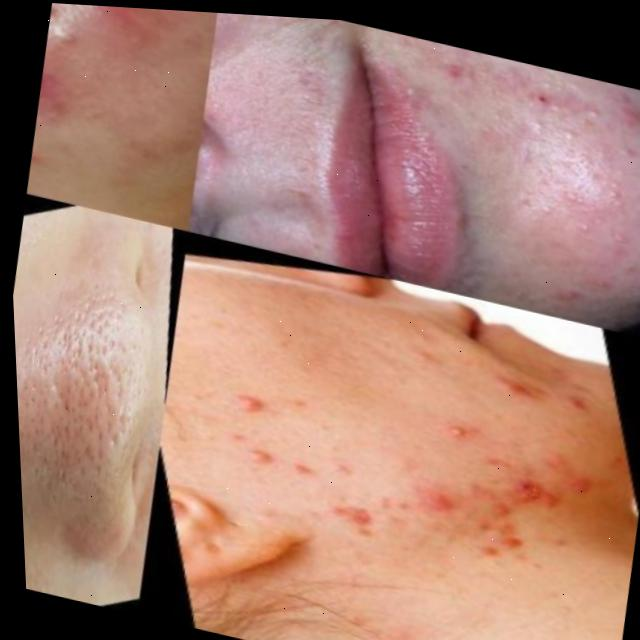Acne: (205, 348, 589, 607), (456, 51, 640, 269), (26, 2, 138, 163), (19, 357, 95, 474)
